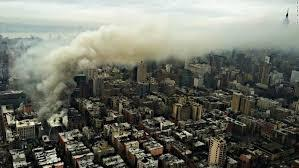smoke: (76, 15, 299, 65), (14, 7, 79, 125)
